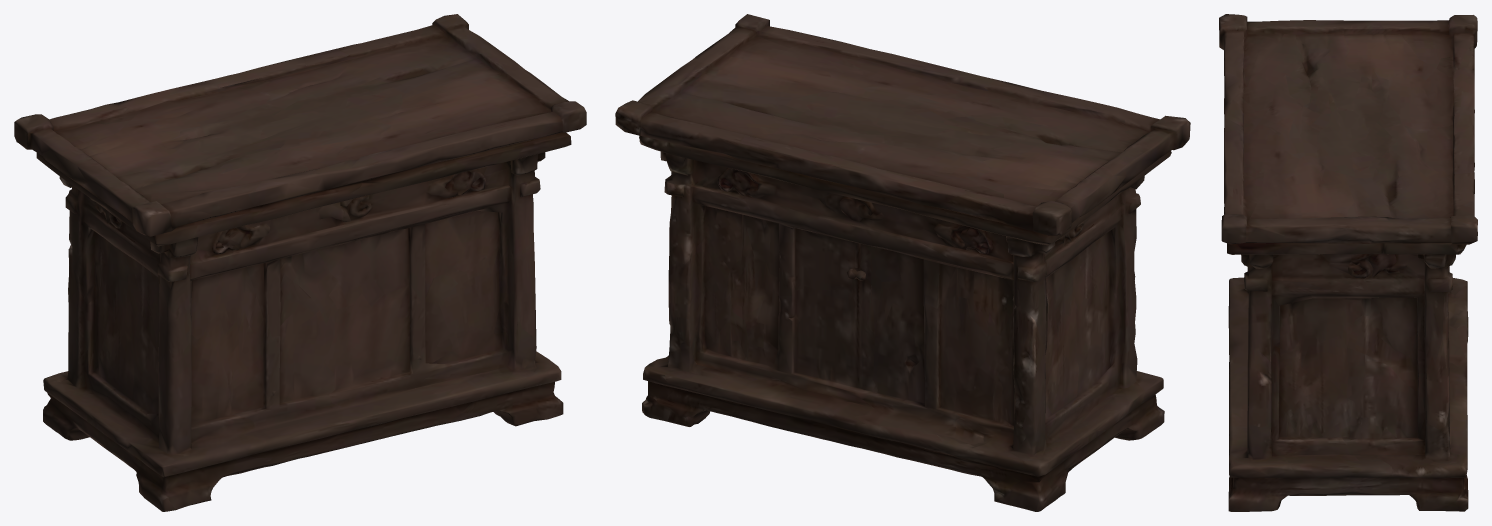
The model's file is hokora-altar.glb.
The picture shows the model from 3 angles, left to right: view 1: azimuth 30°, elevation 25°; view 2: azimuth 150°, elevation 25°; view 3: azimuth 270°, elevation 25°; orthographic projection. The views are drawn at different scales.
Parts seen in each view (by area): view 1: tripo_node_3128fd75-3ca9-430d-8430-6ad3aee4b24b; view 2: tripo_node_3128fd75-3ca9-430d-8430-6ad3aee4b24b; view 3: tripo_node_3128fd75-3ca9-430d-8430-6ad3aee4b24b.
Boxes of the visible parts, bbox=[...] form: tripo_node_3128fd75-3ca9-430d-8430-6ad3aee4b24b: bbox=[14, 14, 586, 511]; tripo_node_3128fd75-3ca9-430d-8430-6ad3aee4b24b: bbox=[615, 14, 1190, 511]; tripo_node_3128fd75-3ca9-430d-8430-6ad3aee4b24b: bbox=[1219, 14, 1477, 511].
Size of the model in its own units: 1 by 0.6671 by 0.5201.
Materials: 1 (1 with a texture image).
